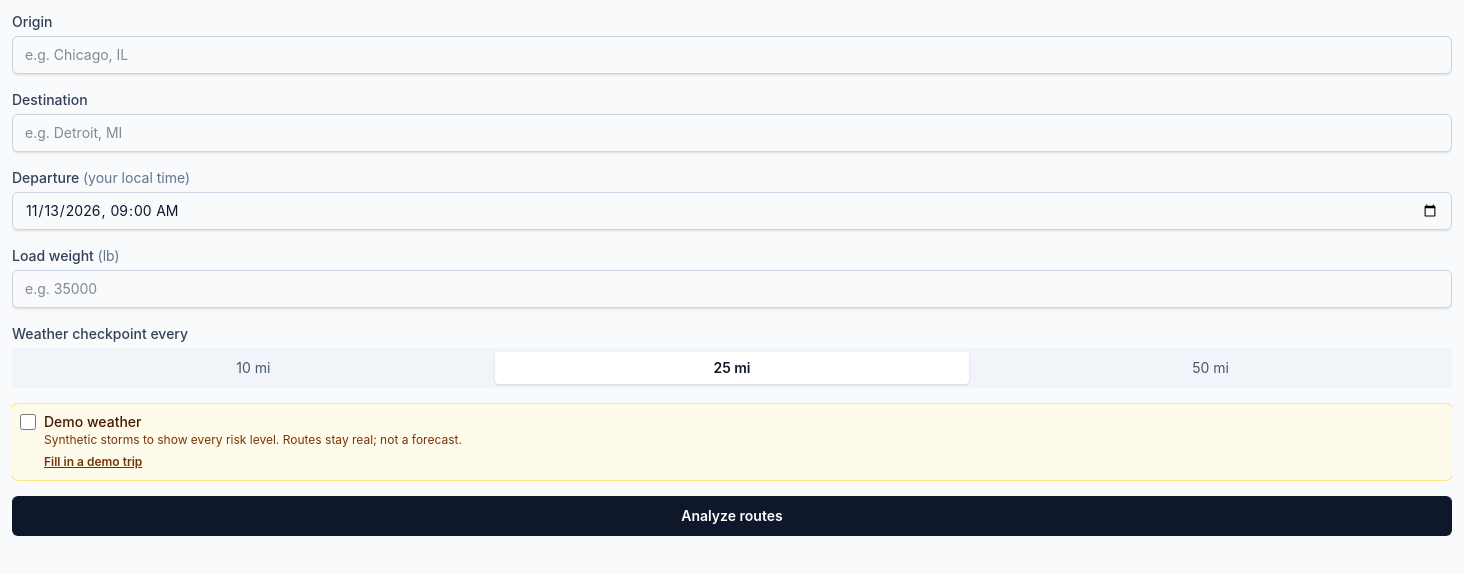
Test case: TripForm › rejects an overweight load
This screenshot has width=1464, height=574.
Type "A town" into the dropdown labelled "Origin" at (732, 55), box 12,36 -> 1452,74
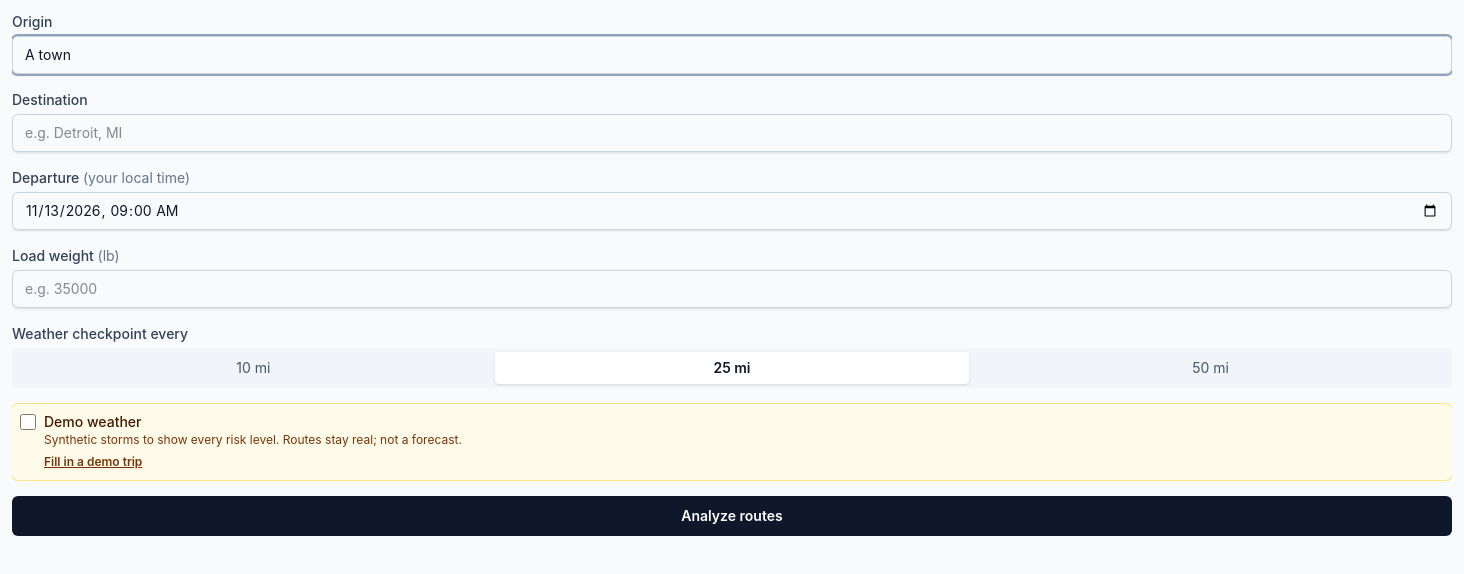
Type "B town" into the dropdown labelled "Destination" at (732, 133), box 12,114 -> 1452,152
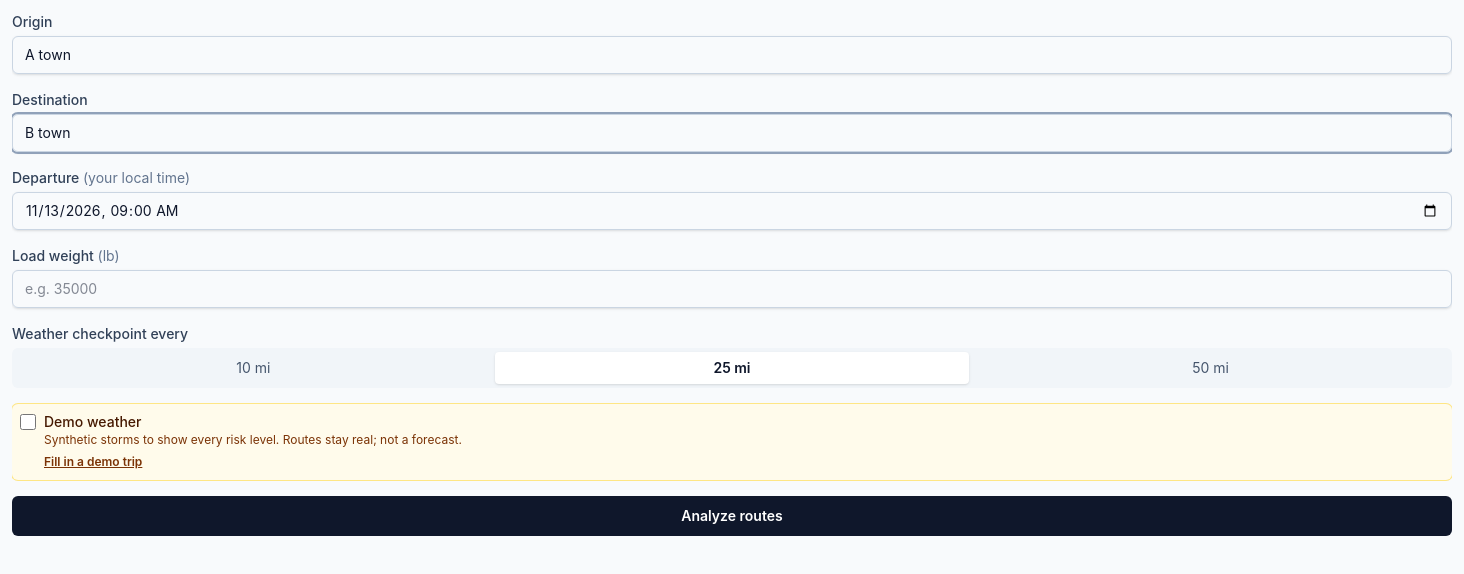
Type "200000" into the number field labelled "Load weight (lb)" at (732, 289), box 12,270 -> 1452,308
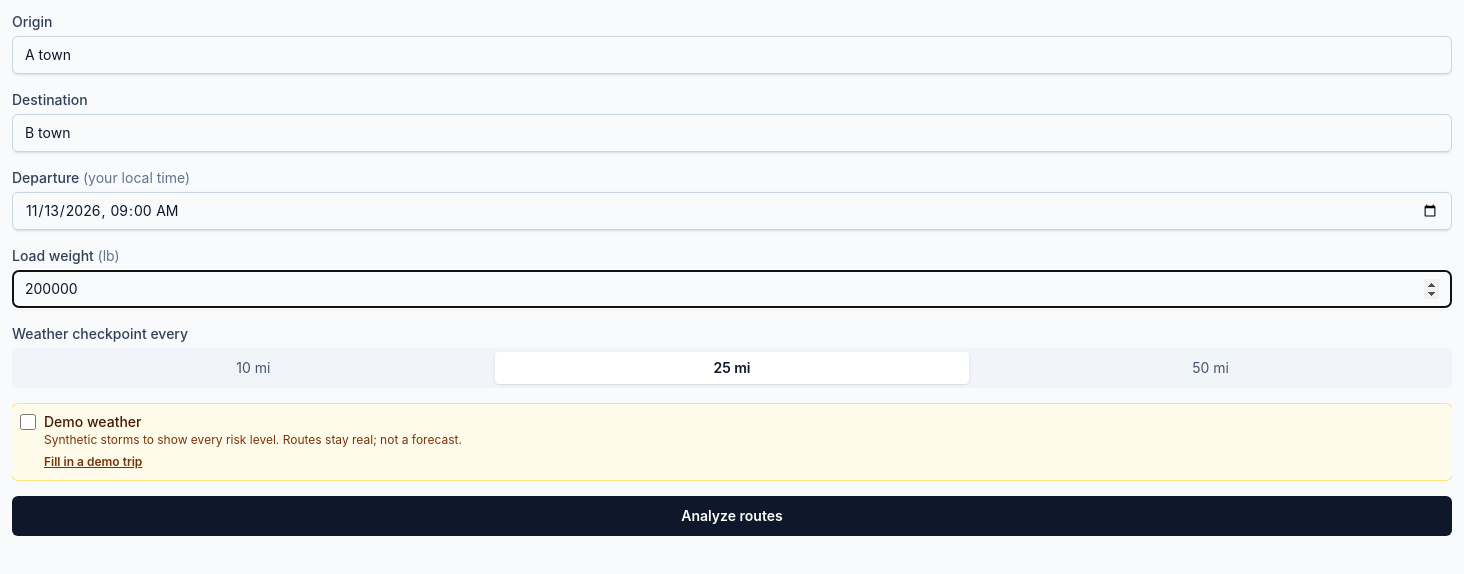
Click the button "Analyze routes" at (732, 516), box 12,496 -> 1452,536
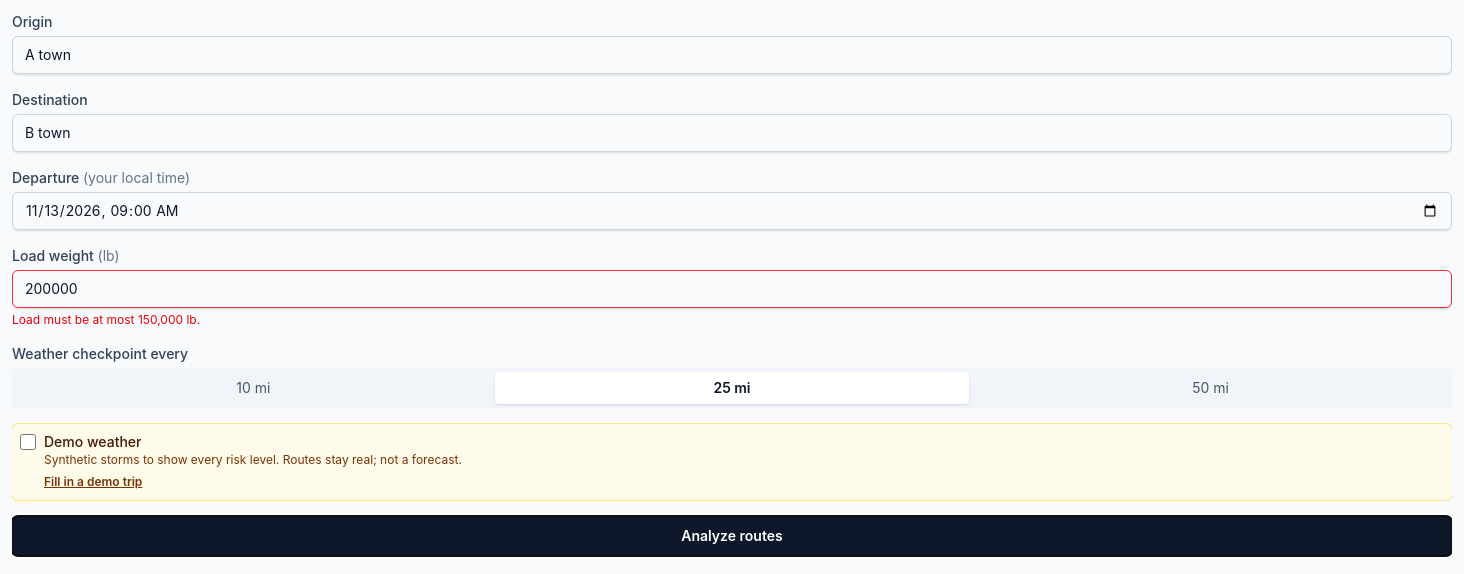
Result: the text "Load must be at most 150,000 lb." is shown at 12,312 -> 200,327
